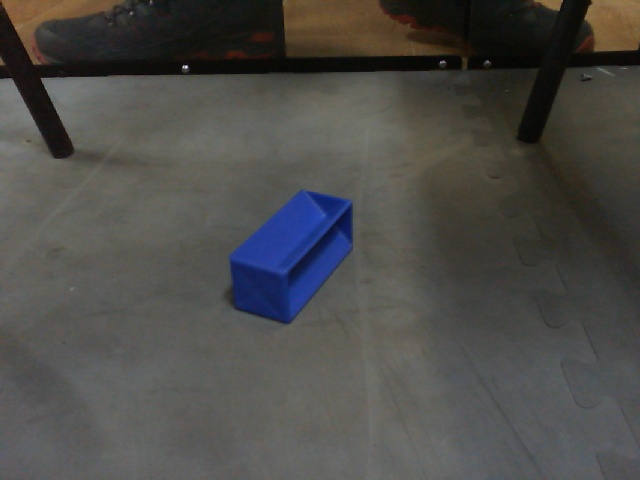BlueSample: (223, 187, 357, 328)
